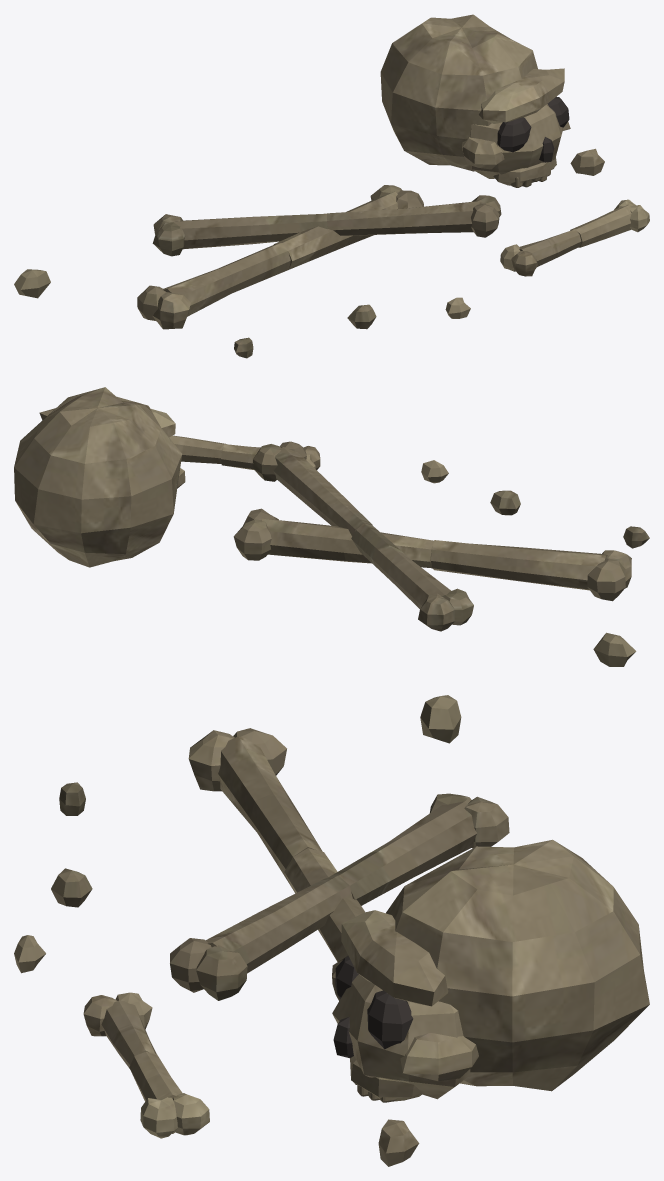
File: junk_bones.glb
3 views of the same model, one above another, from view 1: azimuth 30°, elevation 25°; view 2: azimuth 150°, elevation 25°; view 3: azimuth 270°, elevation 25° (orthographic). The views are drawn at different scales.
Visible parts, largest first — view 1: model; view 2: model; view 3: model.
Part boxes in pixels (<box>): model: <box>14,14,649,358</box>; model: <box>14,387,649,666</box>; model: <box>14,695,649,1166</box>.
Bounding box in the file's own units: 0.7158 × 0.1733 × 0.4312.
Materials: 4 (3 with a texture image).
